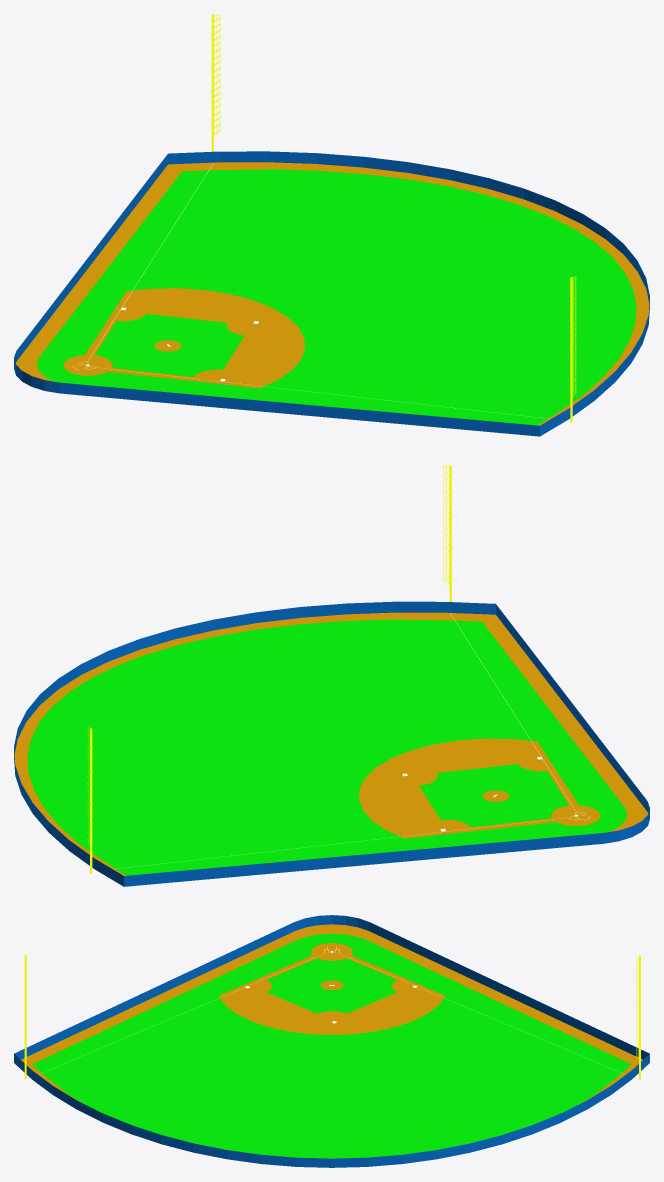
File: Spray_Charts.glb
The picture shows the model from 3 angles, top to bottom: view 1: azimuth 30°, elevation 25°; view 2: azimuth 150°, elevation 25°; view 3: azimuth 270°, elevation 25°; orthographic projection. The views are drawn at different scales.
Visible parts, largest first — view 1: Circle.001, Circle.002, Plane.003, Plane.006; view 2: Circle.001, Circle.002, Plane.006; view 3: Circle.001, Circle.002, Plane.003, Plane.006.
Boxes of the visible parts, bbox=[...] form: Circle.001: bbox=[15, 162, 649, 425]; Circle.002: bbox=[14, 151, 649, 436]; Plane.003: bbox=[211, 14, 220, 151]; Plane.006: bbox=[570, 276, 576, 422]; Circle.001: bbox=[14, 612, 648, 875]; Circle.002: bbox=[14, 601, 649, 886]; Plane.006: bbox=[443, 465, 451, 601]; Circle.001: bbox=[21, 924, 642, 1158]; Circle.002: bbox=[14, 915, 649, 1167]; Plane.003: bbox=[636, 955, 640, 1079]; Plane.006: bbox=[24, 955, 26, 1079].
Bounding box in the file's own units: 137 × 32.4 × 151.
